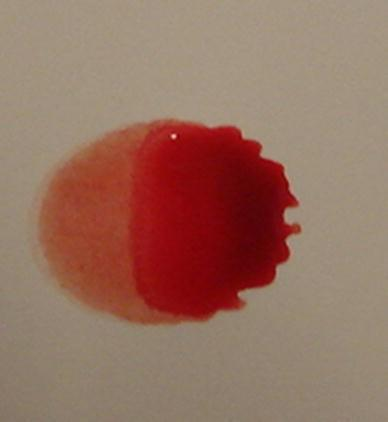Fire: (36, 120, 301, 325)
